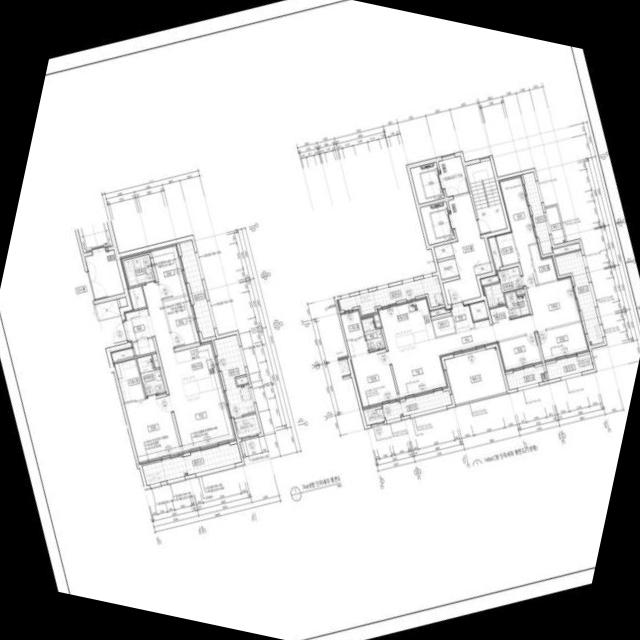background: (0, 0, 640, 640)
space_balconi: (213, 333, 260, 437), (554, 249, 603, 344), (338, 274, 444, 314), (141, 443, 241, 485), (178, 239, 215, 338), (444, 346, 506, 404), (523, 171, 551, 254), (382, 389, 451, 419), (545, 353, 593, 379), (505, 365, 544, 389), (545, 205, 565, 244)
space_bedroom: (498, 174, 537, 286), (124, 393, 181, 463), (346, 336, 398, 407), (150, 243, 188, 298), (537, 321, 589, 361), (163, 295, 200, 347), (497, 333, 541, 371)
space_dressroom: (114, 358, 144, 402), (529, 242, 557, 283), (495, 231, 518, 265), (340, 308, 363, 339)
space_elevator: (420, 201, 455, 244), (410, 161, 445, 203), (77, 221, 112, 252)
space_elevator_hall: (438, 155, 489, 303), (84, 249, 124, 299), (98, 315, 127, 347)
space_front: (123, 307, 155, 356), (450, 302, 473, 333)
space_kitchen: (376, 296, 435, 349), (174, 340, 223, 399)
space_living_room: (388, 275, 581, 398), (142, 282, 236, 452)
space_other: (94, 298, 120, 320), (432, 315, 455, 336), (487, 235, 501, 269), (437, 257, 458, 278), (127, 285, 145, 309), (362, 405, 384, 424), (469, 299, 488, 320), (110, 346, 134, 361), (433, 242, 453, 259), (552, 242, 580, 254), (473, 262, 492, 274), (479, 274, 498, 285), (429, 306, 449, 316), (373, 312, 381, 327), (236, 375, 248, 384), (118, 296, 127, 306), (516, 288, 524, 294)
space_staircase: (465, 159, 506, 233)
space_toilet: (483, 265, 523, 307), (489, 290, 529, 322), (136, 354, 165, 395), (123, 254, 154, 286), (361, 316, 384, 350)
